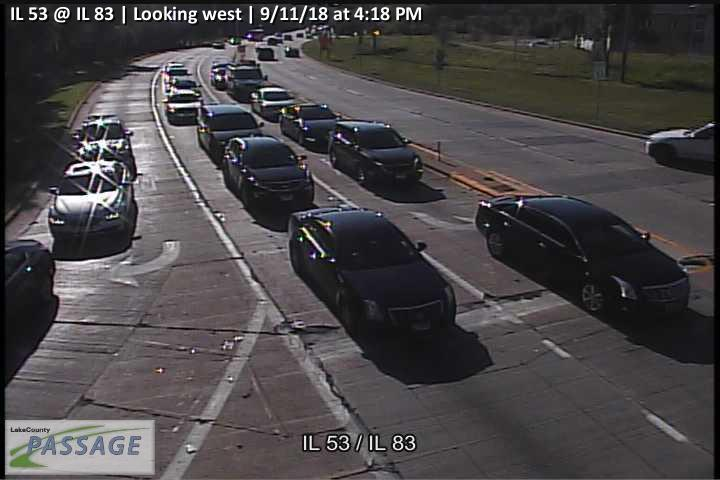SUV: (327, 118, 422, 189), (221, 136, 315, 205), (197, 105, 265, 166), (73, 116, 136, 173), (226, 62, 268, 102)
Sedan: (474, 192, 690, 313), (287, 205, 456, 337), (49, 159, 132, 237), (280, 102, 342, 152), (249, 87, 295, 123), (162, 89, 203, 124)
